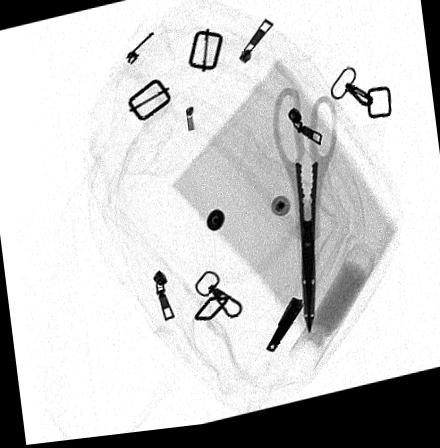Scissors: (269, 89, 343, 345)
